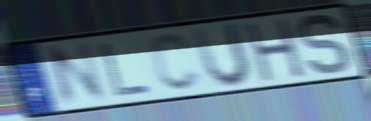C: (148, 31, 204, 94)
H: (243, 16, 308, 84)
L: (98, 41, 153, 99)
N: (44, 39, 109, 110)
S: (297, 12, 353, 77)
U: (190, 20, 255, 90)
